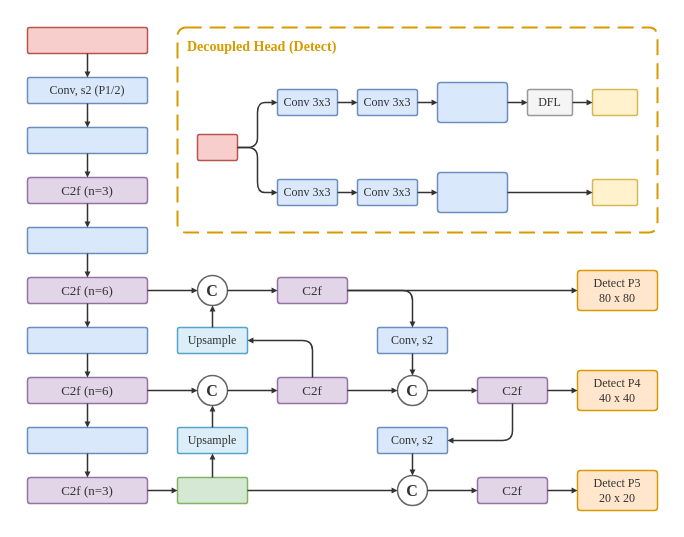
The diagram is 684 pixels wide and 537 high, and some of its shapes have lost their labels. Each missing label, with the box of its shape:
Box: (591, 88, 638, 116)
Cls: (591, 178, 638, 206)
Conv 1x1 4 x 16: (436, 81, 508, 123)
Conv 1x1 nc: (436, 171, 508, 213)
Conv, s2 (P2/4): (26, 126, 148, 154)
Conv, s2 (P3/8): (26, 226, 148, 254)
Conv, s2 (P4/16): (26, 326, 148, 354)
Conv, s2 (P5/32): (26, 426, 148, 454)
Input 640 x 640: (26, 26, 148, 54)
P i: (196, 133, 238, 161)
SPPF: (176, 476, 248, 504)
